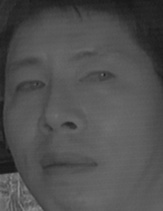eye: (79, 67, 117, 90), (14, 77, 46, 97)
mouth: (39, 147, 99, 178)
